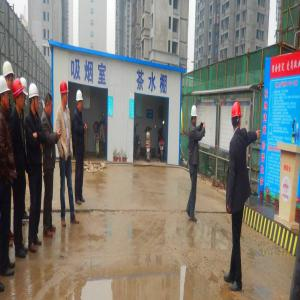none: (46, 92, 54, 117)
red: (232, 100, 243, 136), (60, 80, 69, 111)
white: (3, 58, 14, 94), (29, 83, 41, 115), (2, 74, 11, 112), (76, 87, 84, 116), (21, 76, 29, 104), (192, 104, 199, 130)
